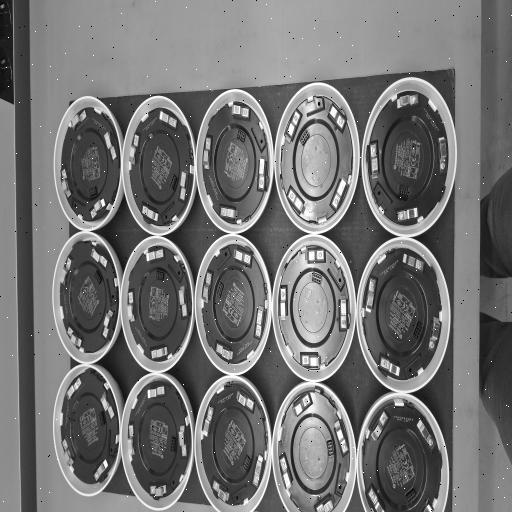konnektor: (398, 180, 411, 200), (299, 129, 312, 147), (404, 489, 418, 504), (412, 322, 423, 340), (237, 126, 246, 146), (215, 282, 224, 302), (93, 270, 105, 285), (154, 270, 166, 284), (242, 454, 250, 473), (169, 174, 177, 192), (310, 272, 322, 284), (98, 411, 106, 429), (170, 435, 177, 455), (327, 438, 334, 458), (88, 184, 98, 197)
yayli: (376, 353, 404, 383), (415, 416, 437, 454), (278, 452, 296, 494), (200, 132, 217, 176), (289, 392, 314, 420), (330, 172, 348, 210), (370, 410, 390, 444), (334, 418, 351, 458), (400, 250, 425, 277), (325, 100, 346, 132), (436, 129, 448, 181), (142, 196, 162, 227), (285, 108, 302, 144), (127, 130, 142, 170), (226, 102, 253, 124), (64, 374, 83, 405), (287, 188, 308, 216), (211, 477, 232, 505), (235, 390, 257, 416), (394, 92, 421, 113), (67, 108, 87, 136), (251, 450, 265, 490), (231, 246, 254, 270), (365, 276, 378, 318), (255, 152, 268, 193), (202, 404, 216, 442), (369, 140, 381, 184), (60, 436, 75, 471), (216, 199, 240, 220), (252, 302, 266, 338), (278, 286, 290, 328), (430, 314, 442, 356), (156, 108, 179, 129), (89, 197, 109, 221), (93, 454, 109, 484), (58, 256, 72, 290), (67, 324, 84, 352), (337, 292, 349, 331), (88, 246, 108, 269), (60, 164, 72, 202), (300, 350, 324, 369), (142, 247, 165, 266), (101, 392, 116, 421), (100, 308, 114, 339), (178, 166, 190, 202), (396, 204, 420, 222), (176, 422, 188, 458), (144, 384, 168, 402), (150, 342, 170, 363), (304, 246, 326, 265), (104, 129, 116, 163), (178, 282, 188, 322), (216, 341, 234, 363), (202, 269, 212, 308), (127, 420, 136, 460), (127, 288, 136, 327), (150, 484, 170, 500)
